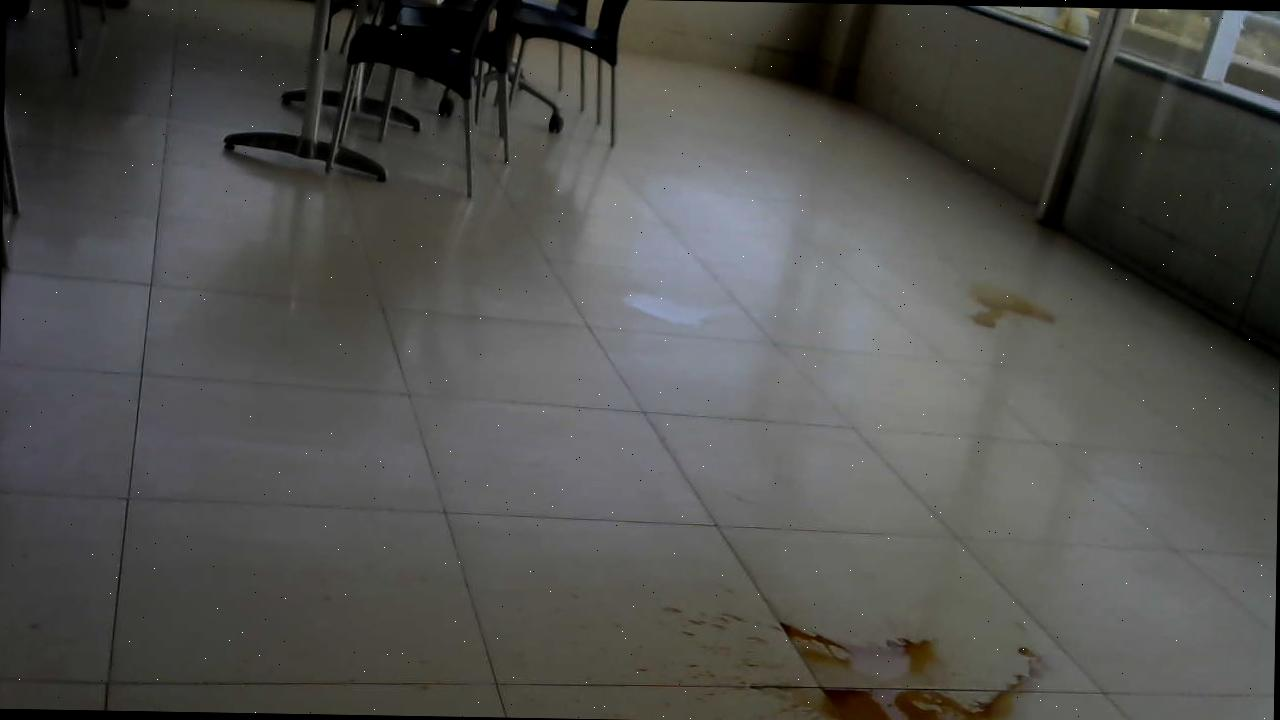dirty_floor: (650, 600, 1066, 720), (960, 274, 1064, 340), (618, 284, 714, 332)
